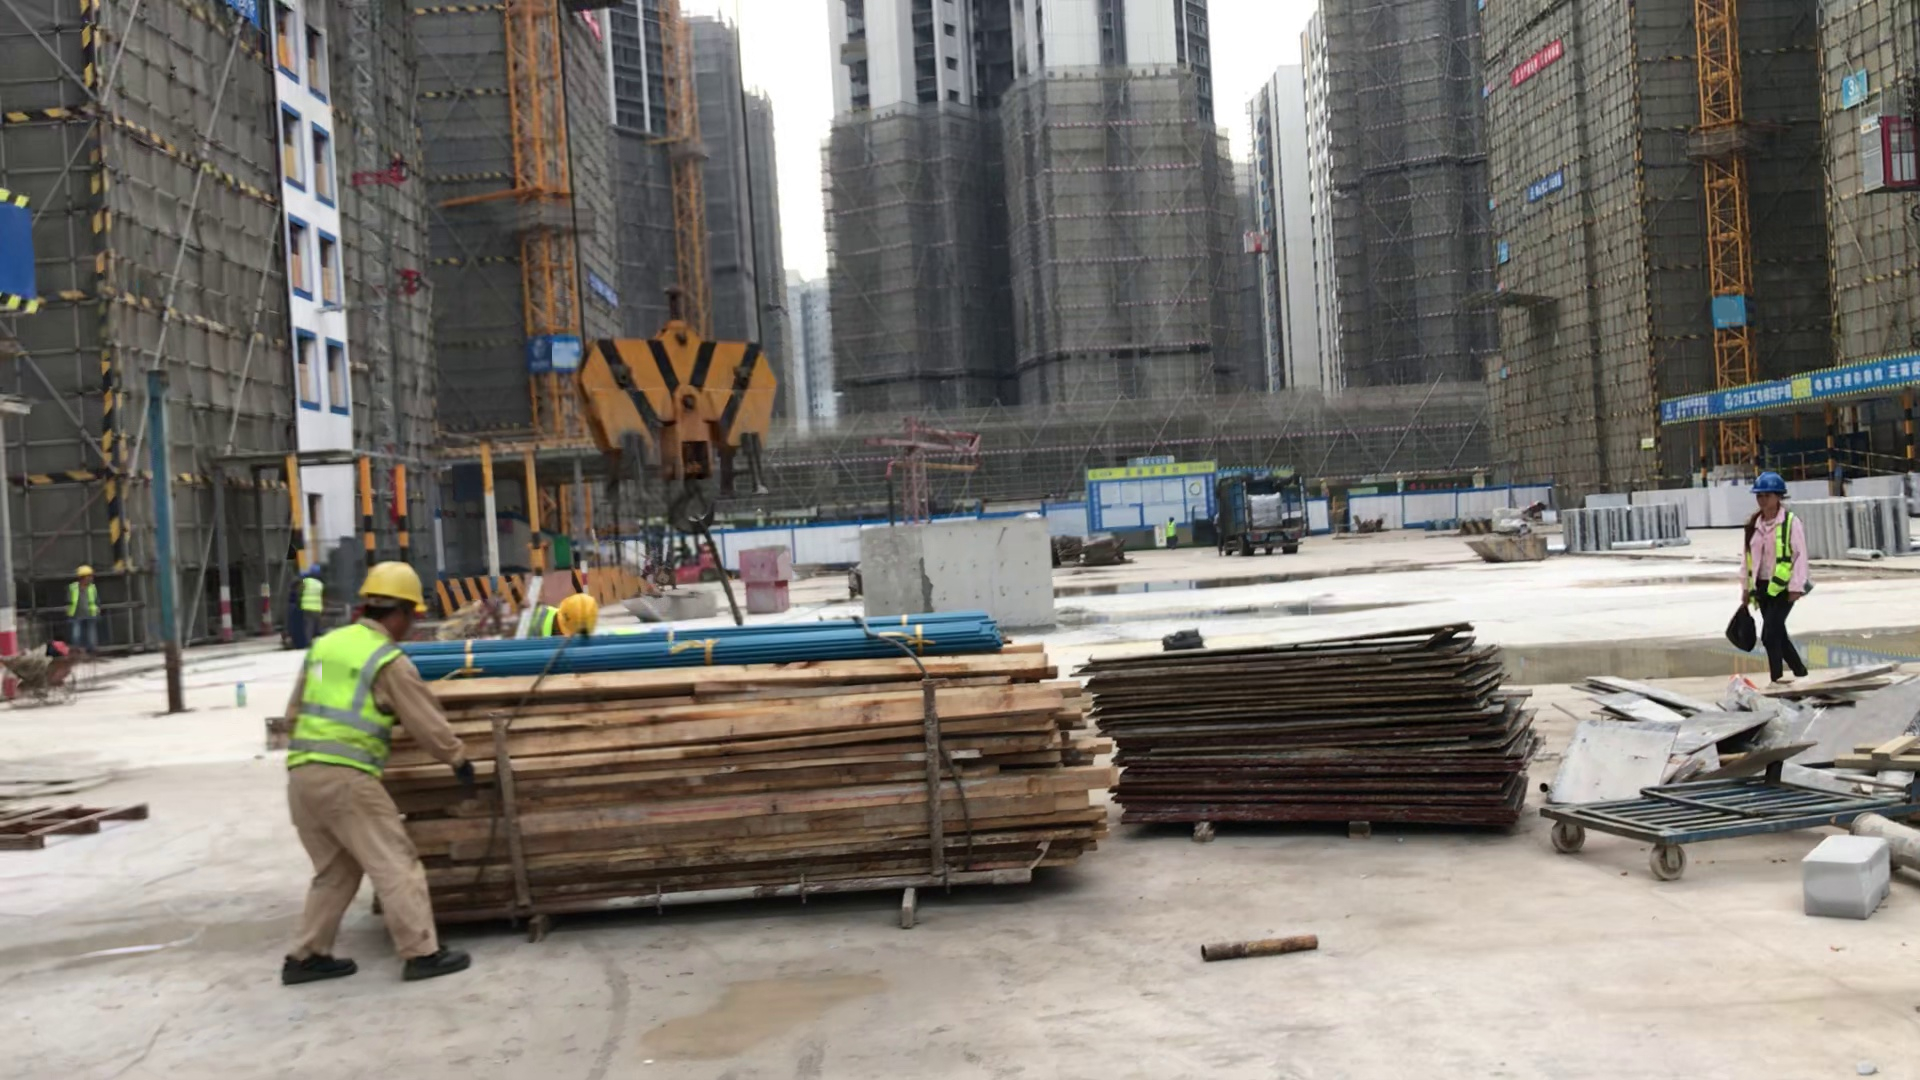board: (1076, 655, 1538, 842)
brick: (1599, 490, 1763, 532)
handcart: (1542, 759, 1871, 873), (3, 629, 100, 712)
helmet: (353, 562, 427, 609), (559, 593, 599, 639), (1752, 470, 1790, 499), (74, 564, 99, 577)
hook: (571, 327, 784, 501)
hopper: (617, 587, 726, 633), (1467, 527, 1554, 570)
person: (297, 563, 479, 990), (1743, 457, 1818, 687), (63, 558, 108, 656), (511, 594, 603, 636), (286, 562, 322, 652), (1162, 516, 1180, 547)
slogan: (1501, 41, 1573, 90), (511, 330, 586, 369), (584, 270, 635, 310), (1518, 169, 1568, 209), (1842, 66, 1869, 103)
vest: (296, 623, 384, 770), (1765, 510, 1793, 607), (61, 582, 103, 618), (525, 602, 553, 638), (301, 577, 326, 614), (1165, 522, 1176, 536)
wood: (377, 666, 1101, 889)
